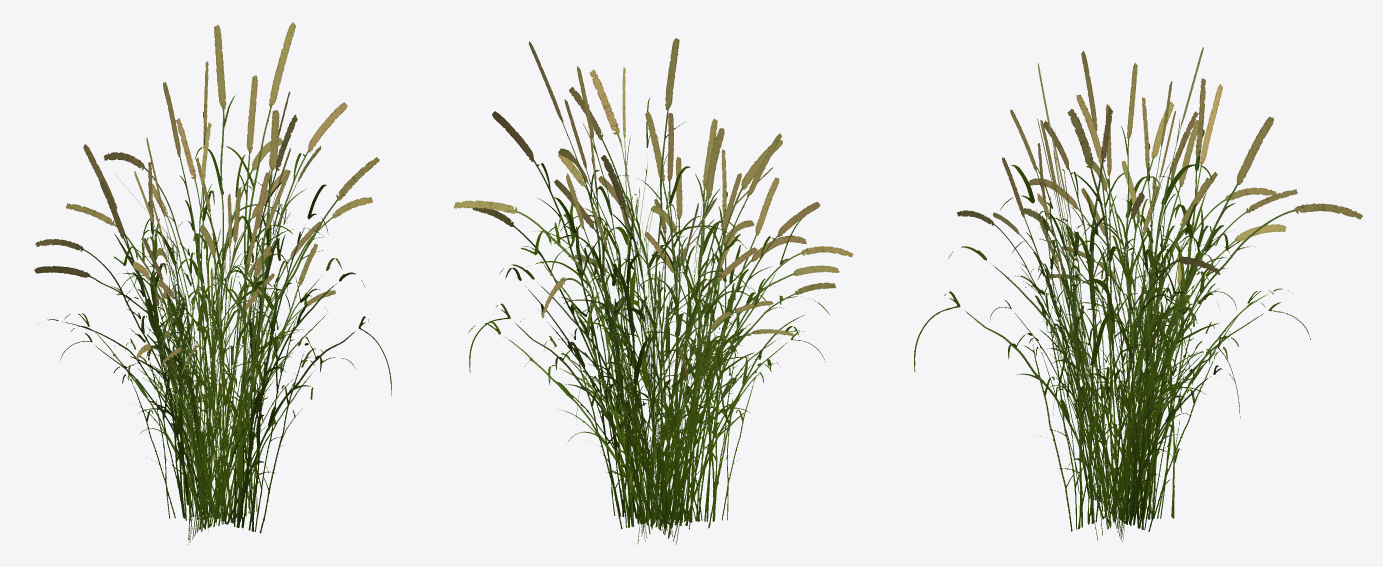
The model's file is grass_tall.glb.
3 views of the same model, side by side, from view 1: azimuth 30°, elevation 25°; view 2: azimuth 150°, elevation 25°; view 3: azimuth 270°, elevation 25° (orthographic). The views are drawn at different scales.
Visible parts, largest first — view 1: grass_tall; view 2: grass_tall; view 3: grass_tall.
Boxes of the visible parts, x1,y1,x2,y2 form: grass_tall: (34,22,391,544); grass_tall: (453,38,853,544); grass_tall: (914,47,1362,542).
Size of the model in its own units: 1.66 by 2.4 by 2.01.
1 material, 1 textured.
